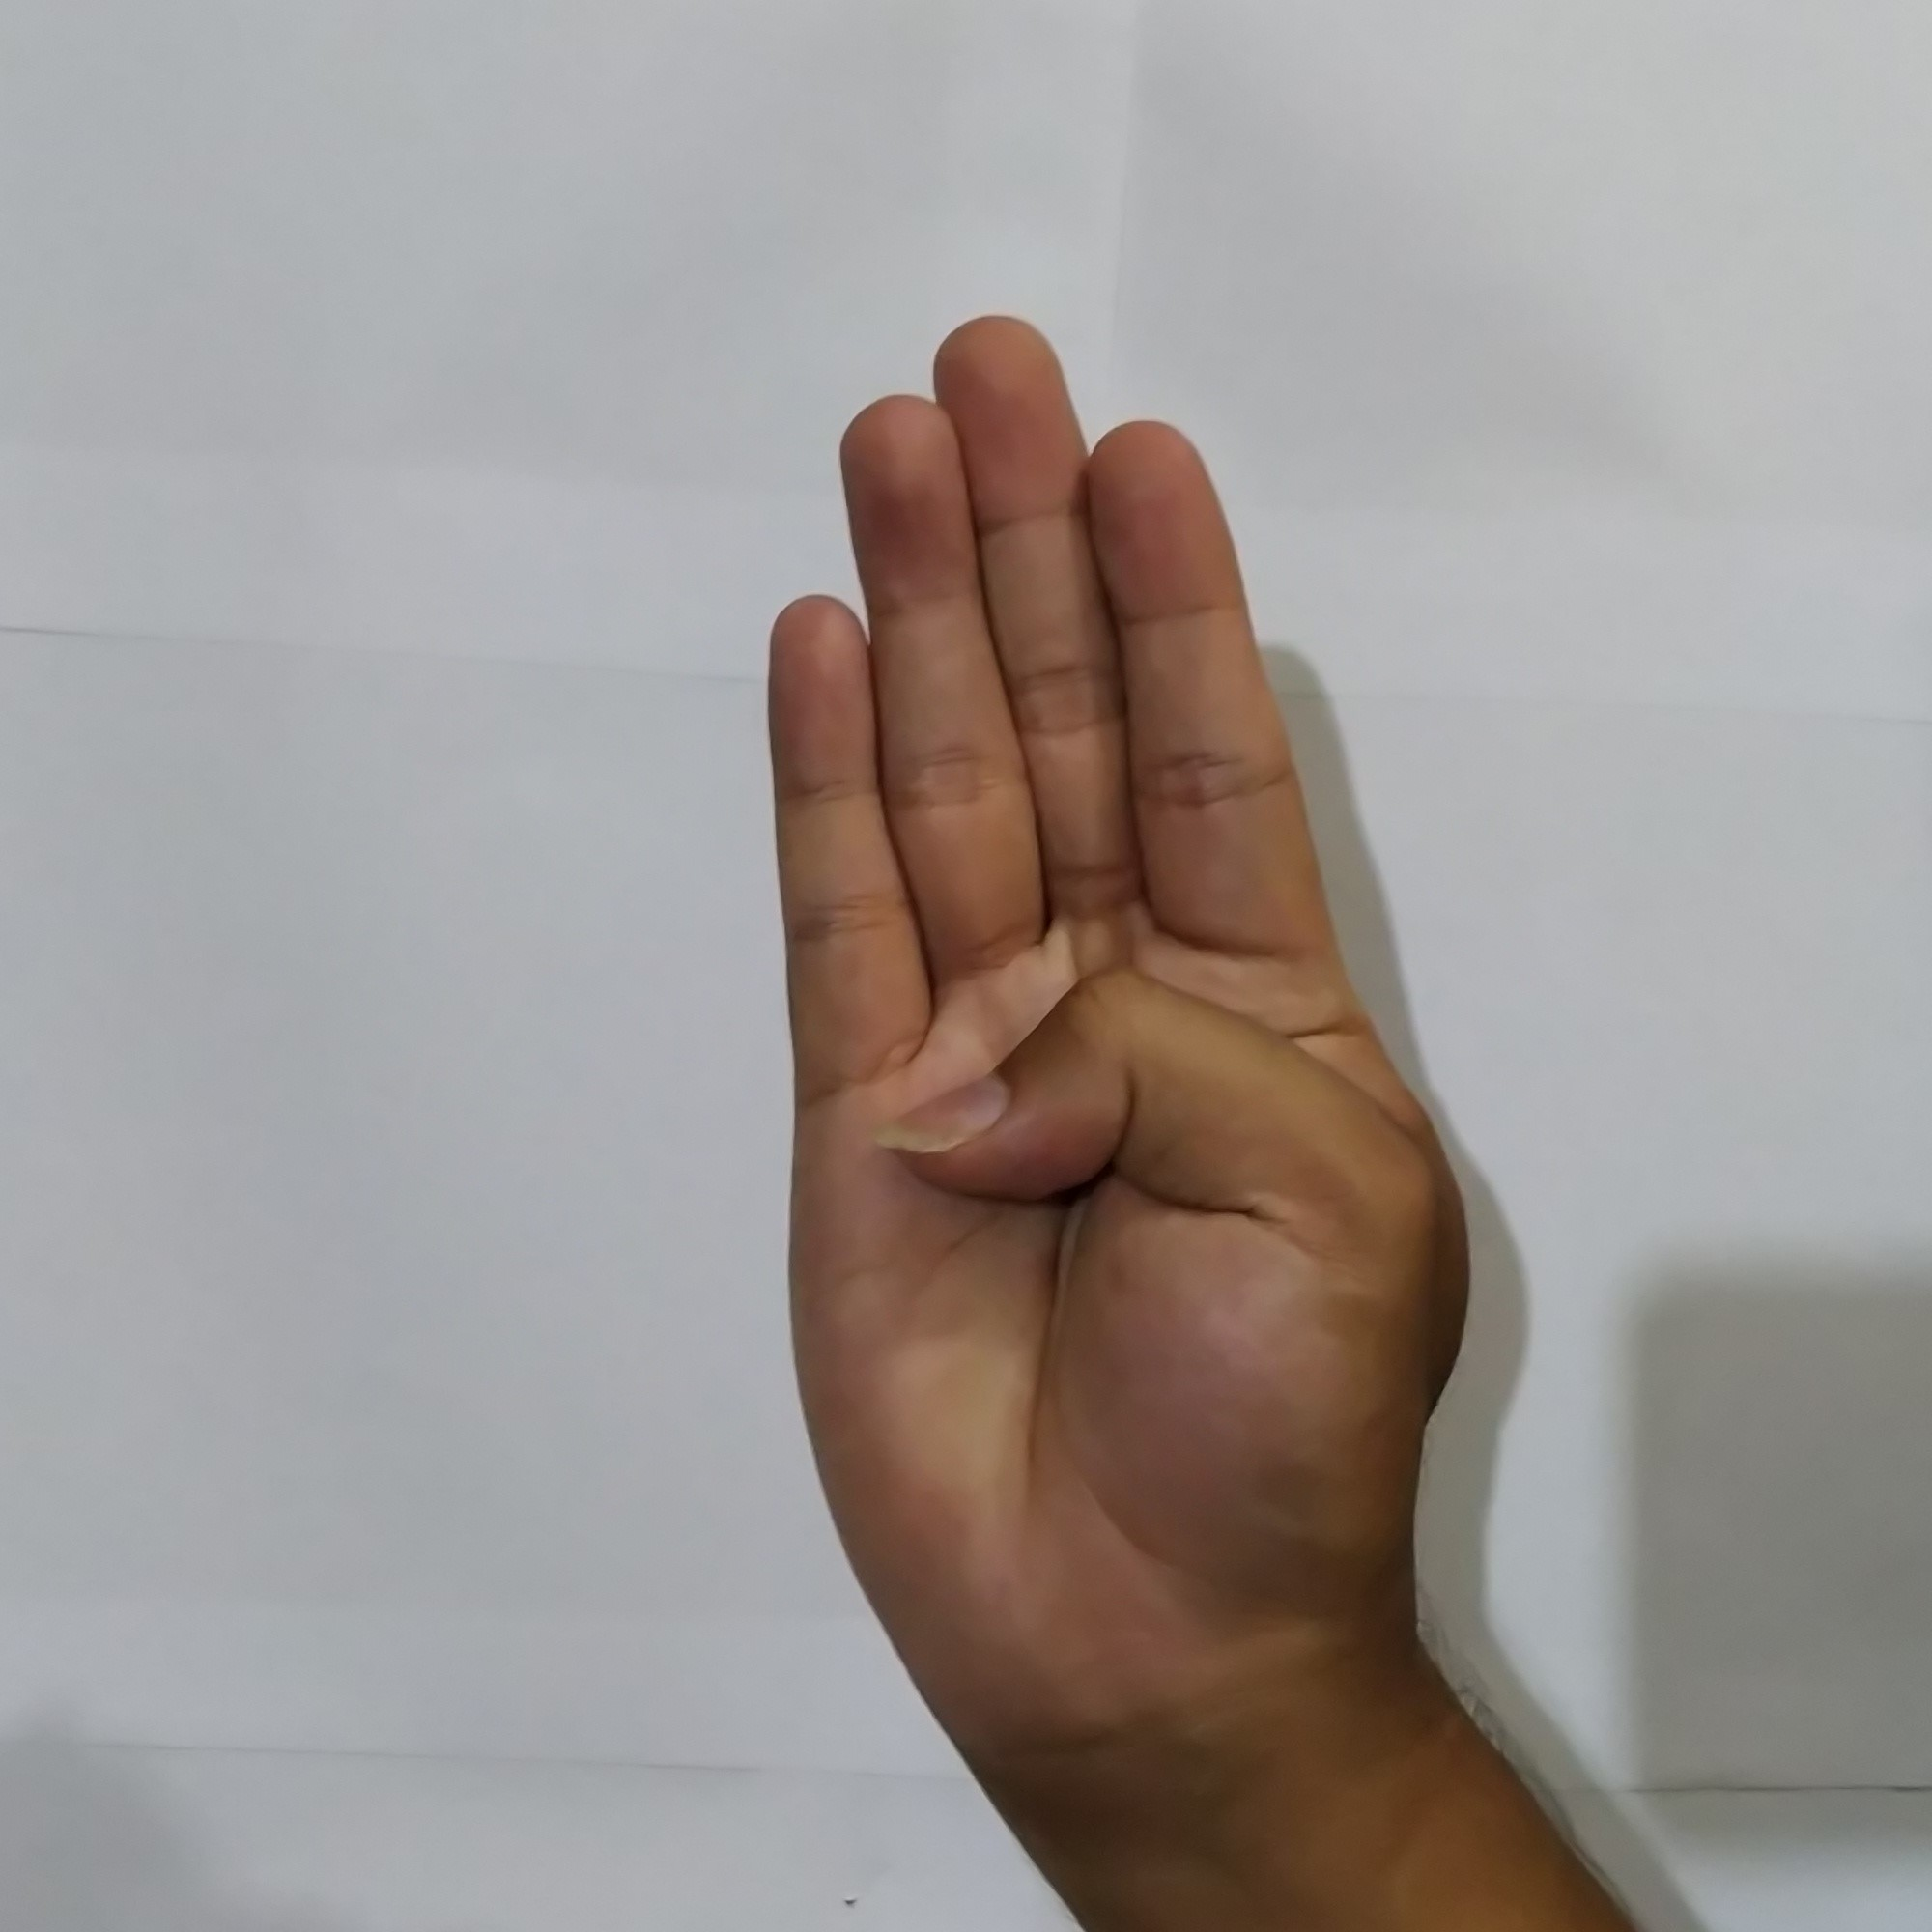B: (724, 290, 1488, 1713)
